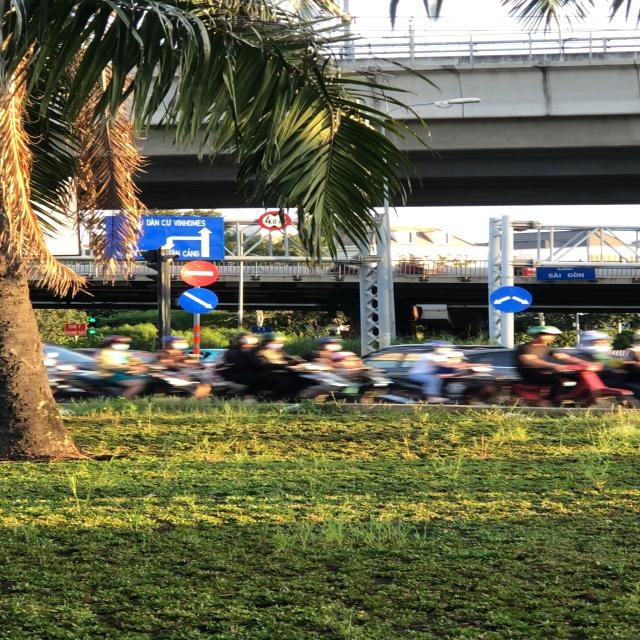Bien bao cam di nguoc chieu: (179, 260, 225, 288)
